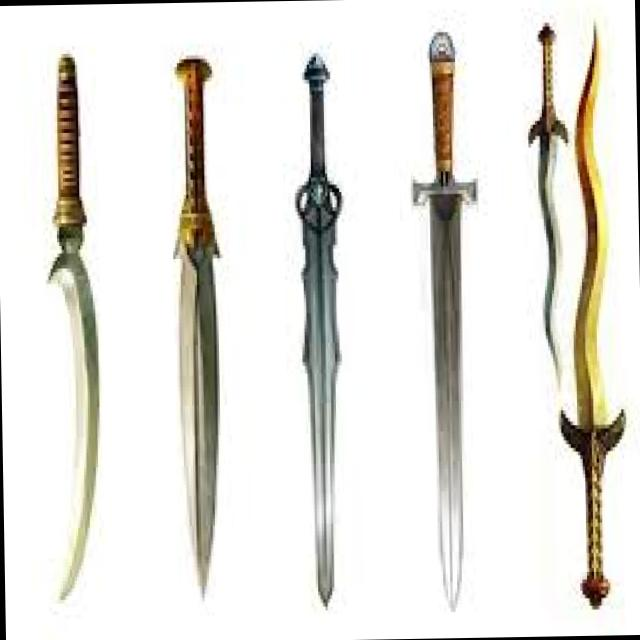Gun: (524, 7, 632, 601), (144, 39, 252, 614), (401, 21, 493, 604), (26, 44, 110, 596), (284, 47, 362, 626)
